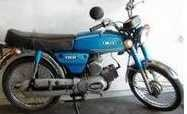motorcycle: (1, 11, 183, 110)
